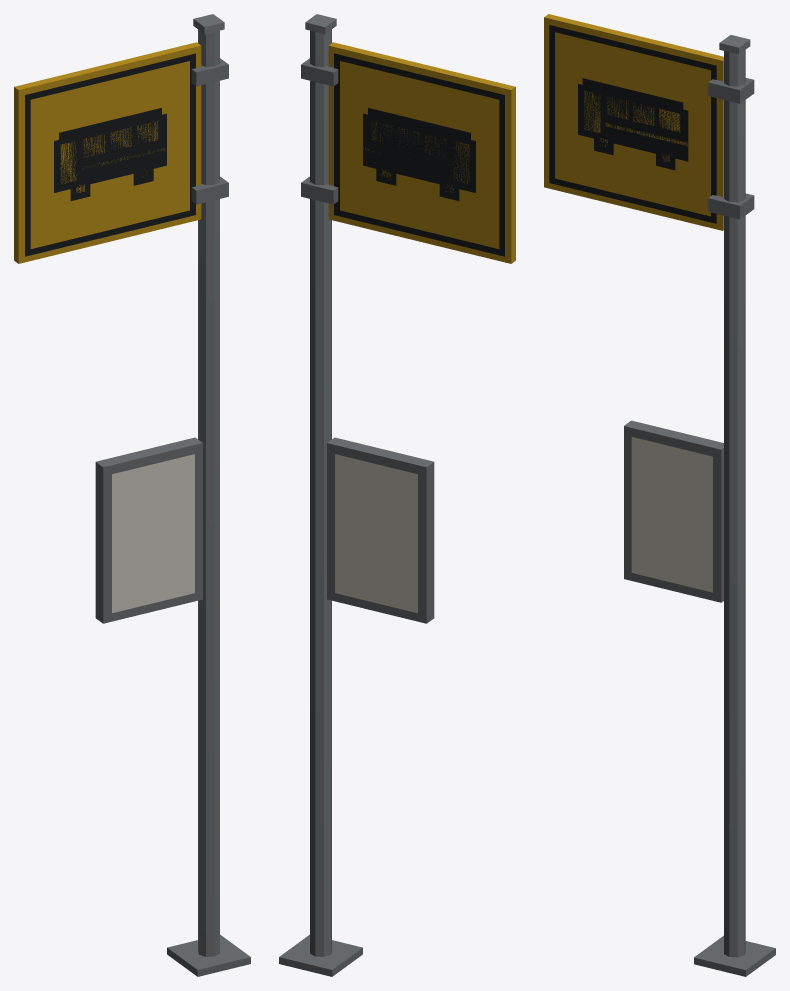
File: street.bus_stop.yellow.glb
3 views of the same model, side by side, from view 1: azimuth 30°, elevation 25°; view 2: azimuth 150°, elevation 25°; view 3: azimuth 330°, elevation 25° (orthographic). The views are drawn at different scales.
Visible parts, largest first — view 1: street_bus_stop_yellow; view 2: street_bus_stop_yellow; view 3: street_bus_stop_yellow.
Part boxes in pixels (x1,y1,x2,y2): street_bus_stop_yellow: (14,14,250,976); street_bus_stop_yellow: (279,14,515,976); street_bus_stop_yellow: (544,14,775,976).
Size of what is drawn, in the model's own units: 0.66 by 2.7 by 0.16.
